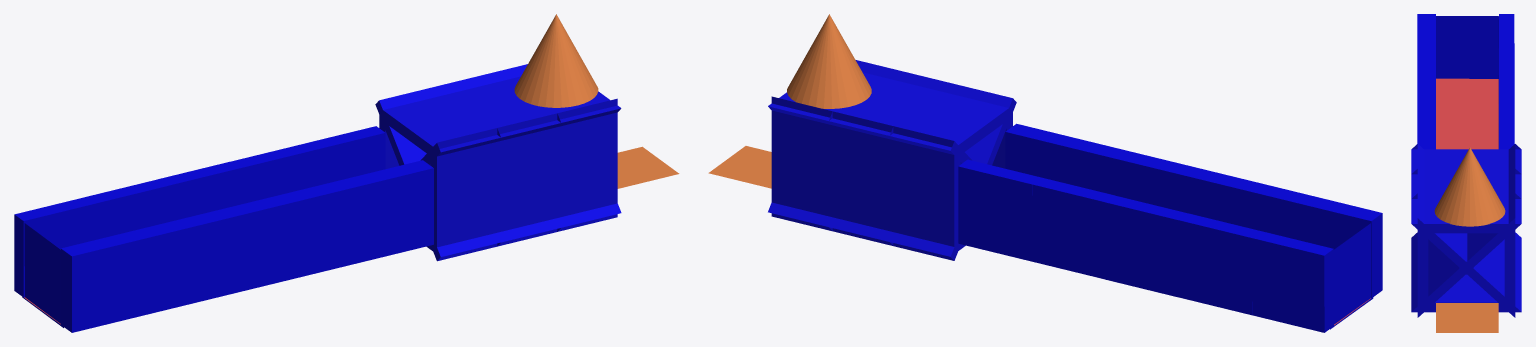
File: Structure.fbx
3 views of the same model, side by side, from view 1: azimuth 30°, elevation 25°; view 2: azimuth 150°, elevation 25°; view 3: azimuth 270°, elevation 25° (orthographic). The views are drawn at different scales.
Visible parts, largest first — view 1: Structure.001, Structure1, Structure1.001, Wall4, Wall1, Wall, Wall2, Wall3, Cone, Wall5, Wall9, Wall8 (+4 smaller); view 2: Structure.001, Structure1, Structure1.001, Wall5, Wall9, Wall7, Wall8, Wall6, Cone, Wall4, Wall, Wall2 (+4 smaller); view 3: Structure1.001, Ground.001, Wall10, Cone, Structure.001, Structure1, Ground, Wall3, Wall1, Wall2, Wall4, Wall5 (+5 smaller).
Boxes of the visible parts, x1,y1,x2,y2 form: Structure.001: (375, 85, 500, 261); Structure1: (439, 71, 561, 246); Structure1.001: (500, 64, 621, 231); Wall4: (61, 231, 144, 332); Wall1: (277, 178, 361, 280); Wall: (350, 160, 433, 262); Wall2: (204, 196, 287, 297); Wall3: (133, 213, 216, 315); Cone: (514, 14, 598, 107); Wall5: (14, 197, 96, 297); Wall9: (304, 126, 385, 186); Wall8: (231, 144, 312, 204); Structure.001: (889, 83, 1016, 260); Structure1: (829, 68, 951, 245); Structure1.001: (768, 60, 890, 231); Wall5: (1252, 231, 1333, 332); Wall9: (958, 159, 1040, 261); Wall7: (1105, 195, 1188, 297); Wall8: (1032, 177, 1114, 279); Wall6: (1179, 213, 1261, 315); Cone: (787, 14, 871, 108); Wall4: (1297, 195, 1382, 298); Wall: (1005, 123, 1089, 186); Wall2: (1152, 159, 1237, 222); Structure1.001: (1411, 193, 1521, 317); Ground.001: (1436, 78, 1498, 149); Wall10: (1436, 16, 1498, 78); Cone: (1434, 147, 1505, 226); Structure.001: (1411, 144, 1521, 262); Structure1: (1411, 168, 1521, 286); Ground: (1436, 303, 1498, 332); Wall3: (1417, 43, 1435, 73); Wall1: (1417, 103, 1435, 132); Wall2: (1417, 73, 1435, 102); Wall4: (1417, 14, 1435, 43); Wall5: (1498, 14, 1514, 74).
Size of the model in its own units: 1693 by 492 by 310.
